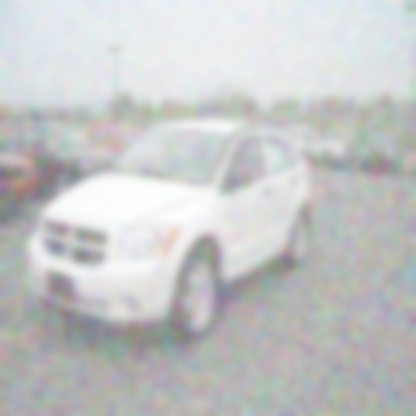Vehicle: (29, 121, 316, 337)
